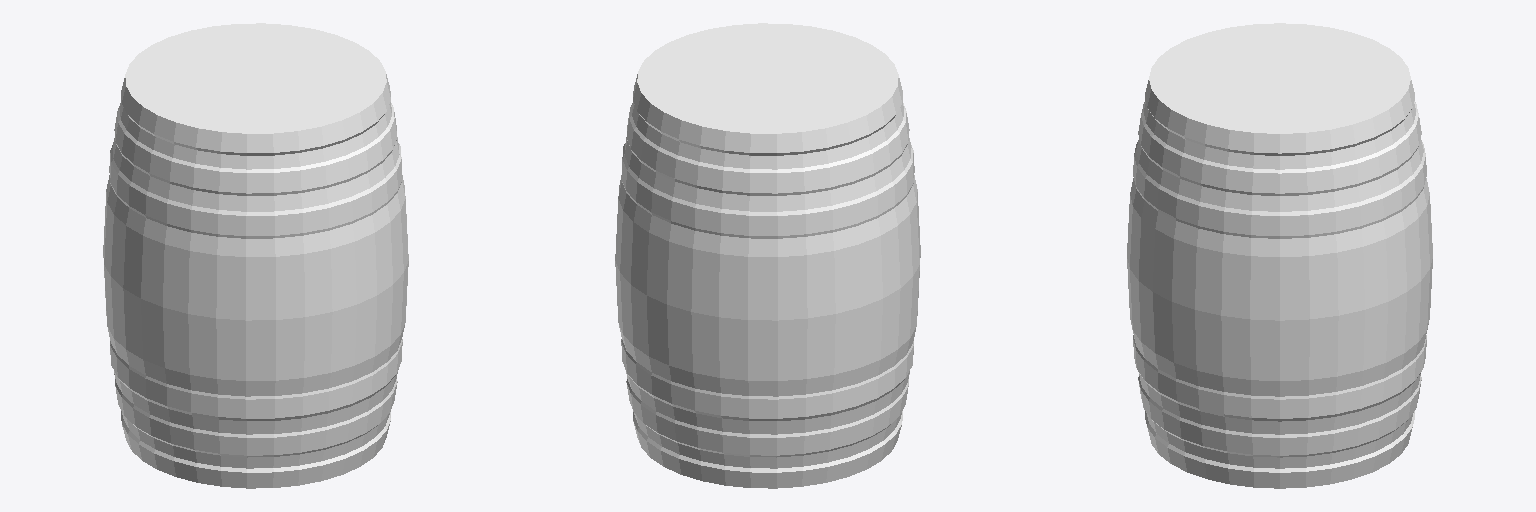
File: woodenbarrel.obj
The picture shows the model from 3 angles: view 1: azimuth 30°, elevation 25°; view 2: azimuth 150°, elevation 25°; view 3: azimuth 270°, elevation 25°; orthographic projection.
Visible parts, largest first — view 1: Object.1; view 2: Object.1; view 3: Object.1.
Part boxes in pixels (x1,y1,x2,y2): Object.1: (103, 23, 408, 488); Object.1: (615, 23, 920, 488); Object.1: (1127, 23, 1432, 488).
Size of the model in its own units: 94.39 by 121 by 94.39.